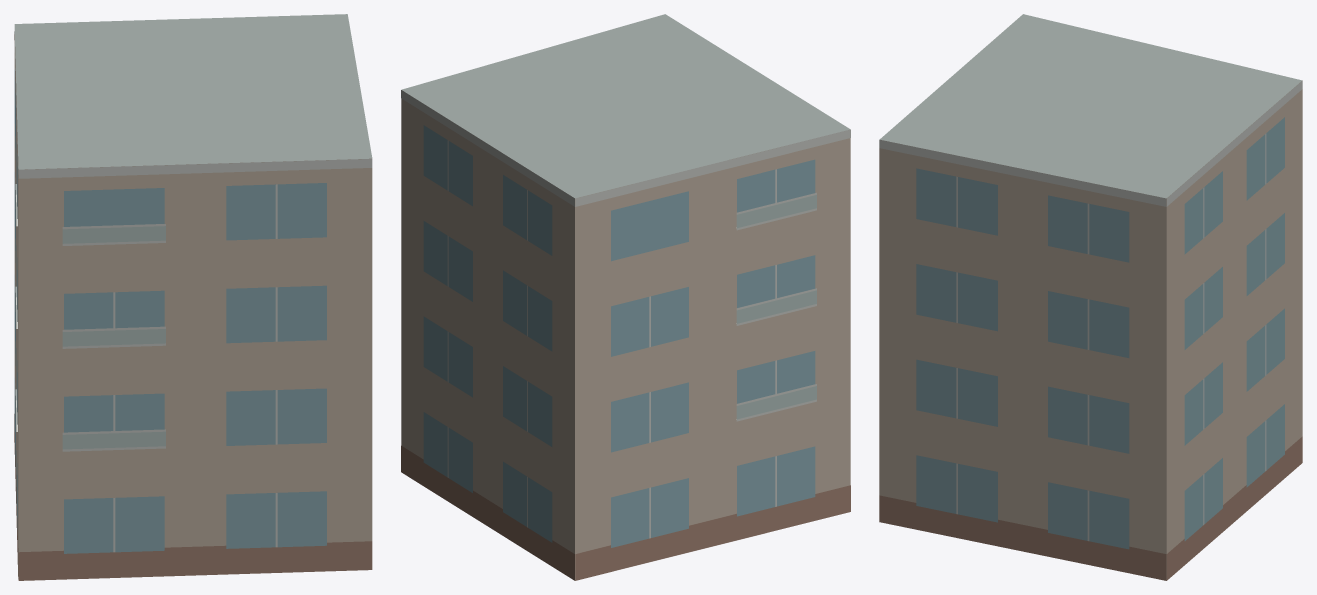
Rendered from survey-upis-32993146.glb.
3 renders of one model, left to right at view 1: azimuth 30°, elevation 25°; view 2: azimuth 150°, elevation 25°; view 3: azimuth 270°, elevation 25°, orthographic. The views are drawn at different scales.
Parts seen in each view (by area): view 1: survey-upis-32993146.tmp; view 2: survey-upis-32993146.tmp; view 3: survey-upis-32993146.tmp.
Part boxes in pixels (bbox=[...]): survey-upis-32993146.tmp: bbox=[14, 14, 372, 580]; survey-upis-32993146.tmp: bbox=[401, 14, 850, 580]; survey-upis-32993146.tmp: bbox=[879, 14, 1302, 580].
Size of the model in its own units: 11.28 by 10.9 by 10.94.
